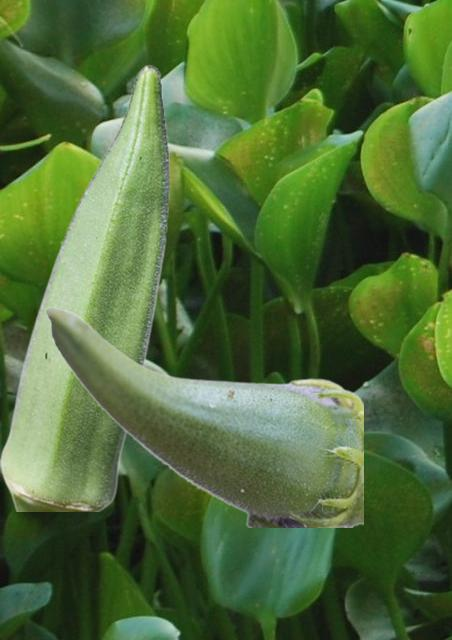okra: (0, 64, 169, 510), (44, 306, 362, 526)
